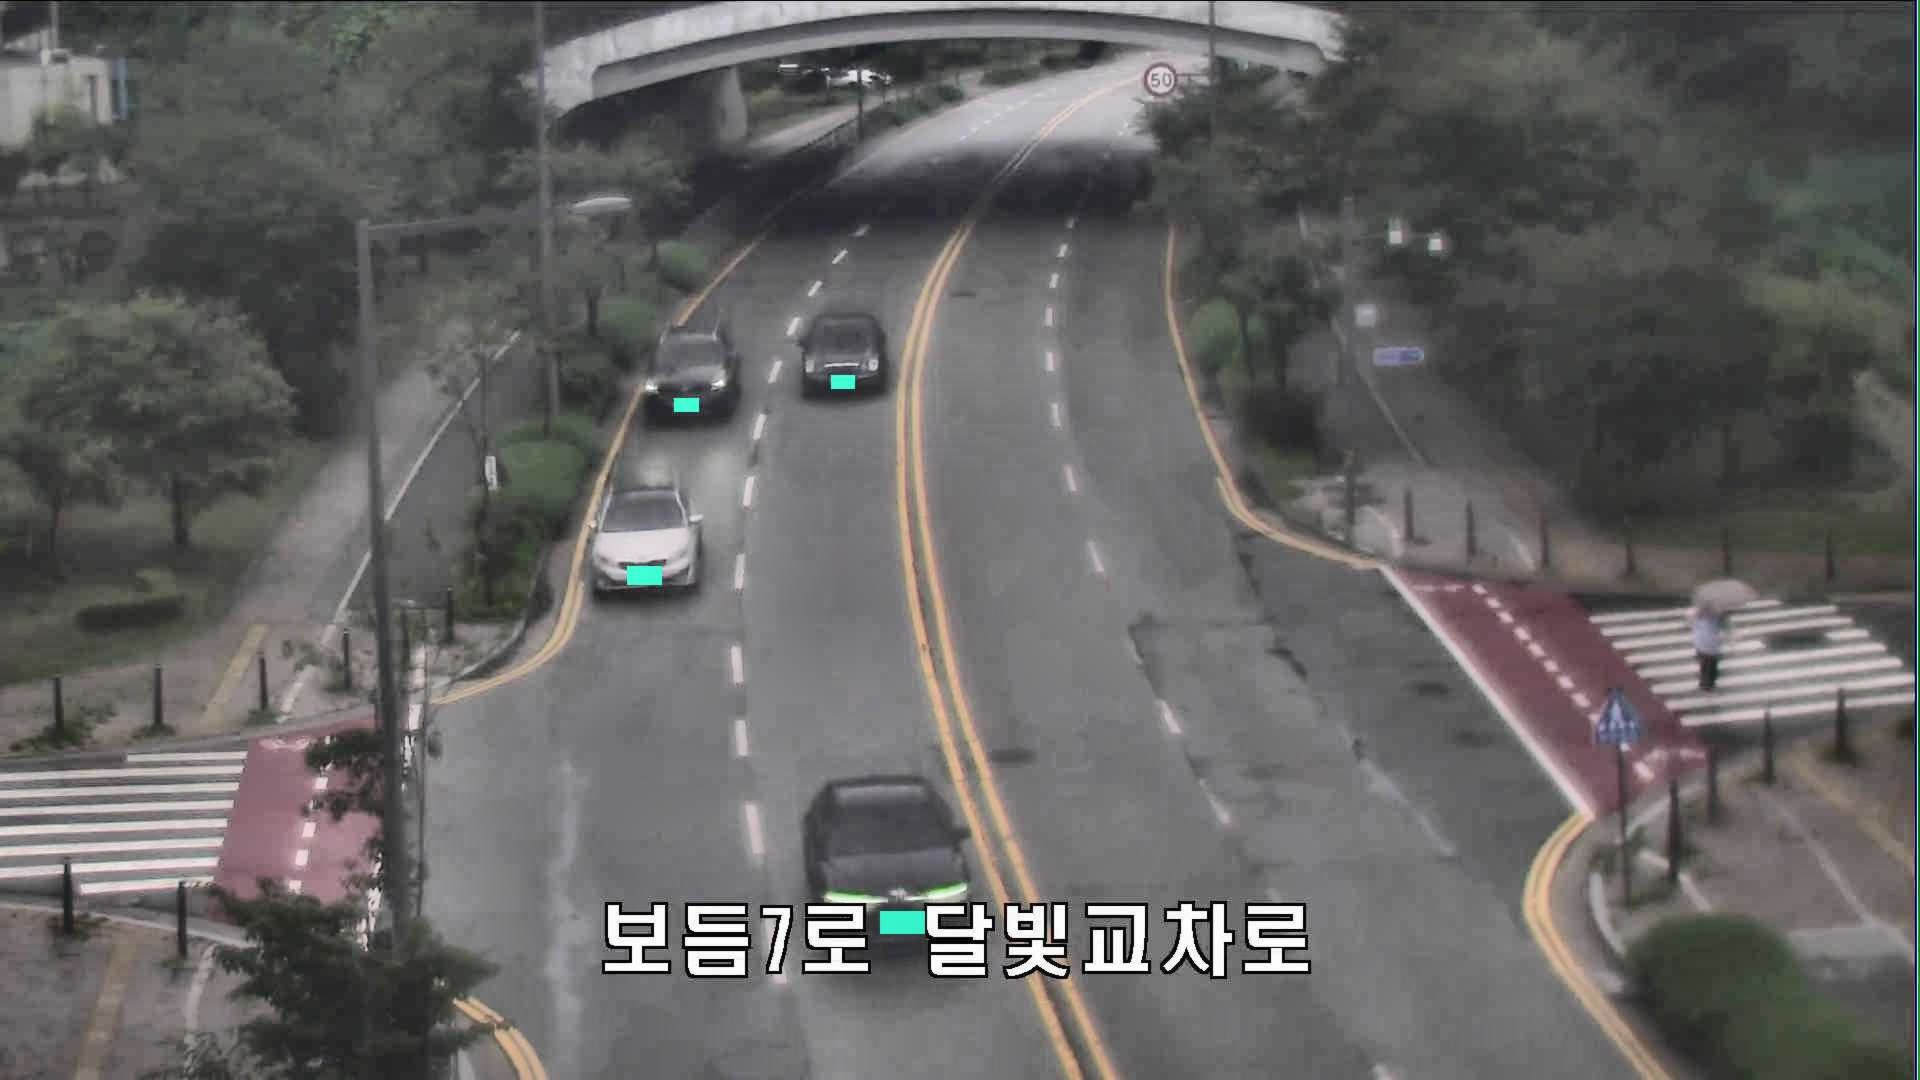um_crosswalk: (1677, 576, 1759, 698)
